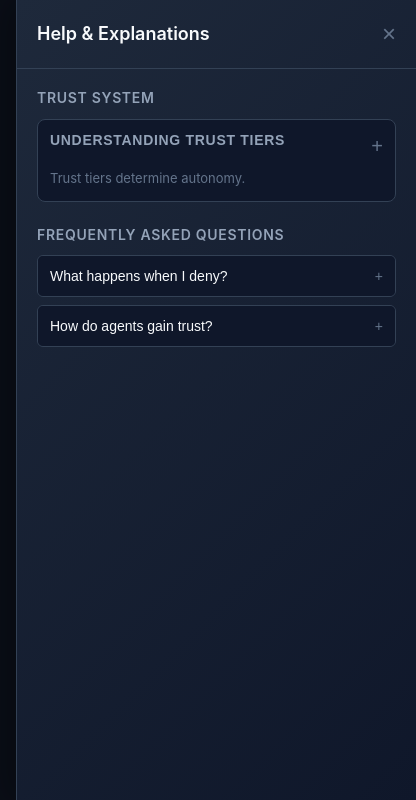
Scenario: HelpPanel › expands/collapses explanations on click
This screenshot has width=416, height=800.
Click the heading "Understanding Trust Tiers": (168, 140) x1=50 y1=132 x2=285 y2=149
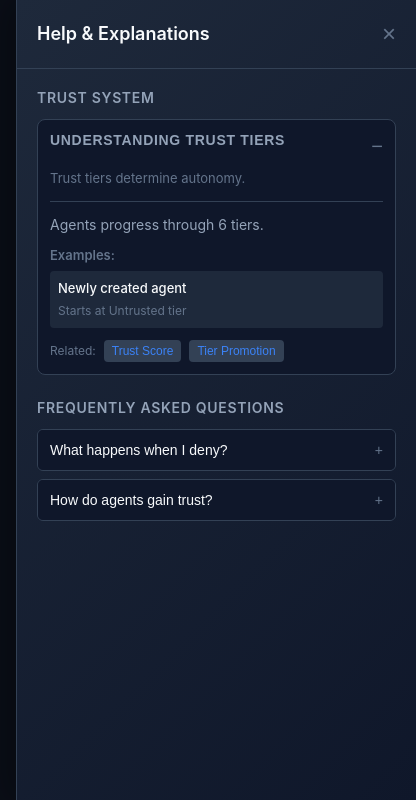
expect the text "Agents progress through 6 tiers." is shown: met, box x1=50 y1=216 x2=264 y2=232
